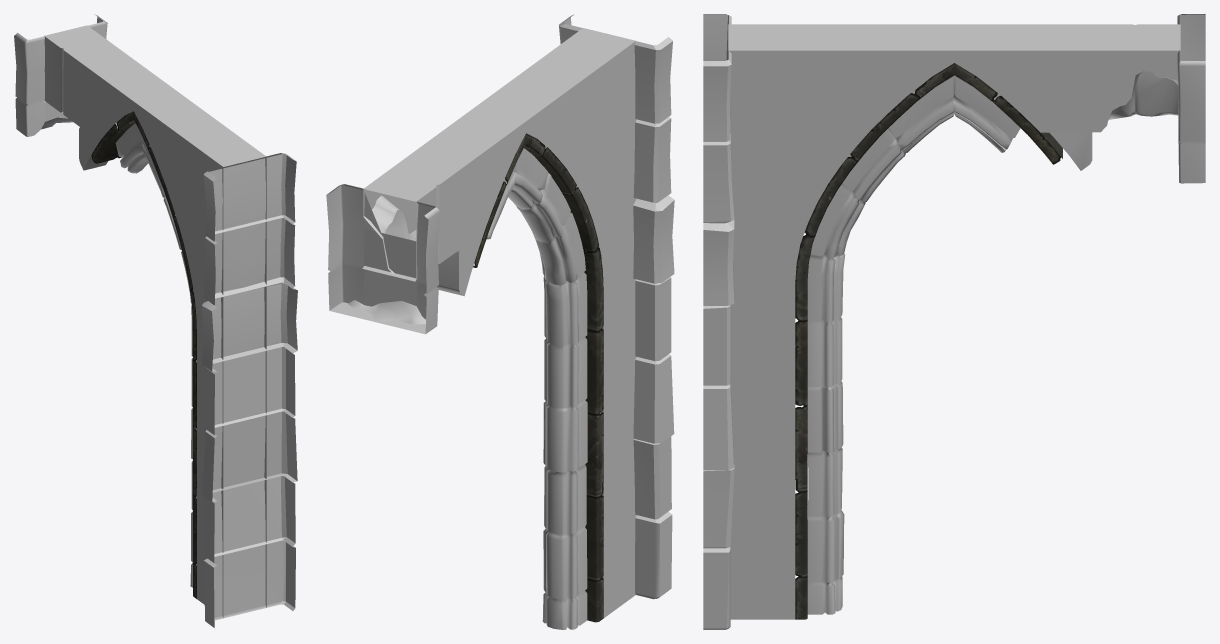
The picture shows the model from 3 angles, left to right: view 1: azimuth 30°, elevation 25°; view 2: azimuth 150°, elevation 25°; view 3: azimuth 270°, elevation 25°; orthographic projection. The views are drawn at different scales.
Parts seen in each view (by area): view 1: SM_Greathall_Lower_Arch_8x10_Broken_01_LOD0; view 2: SM_Greathall_Lower_Arch_8x10_Broken_01_LOD0; view 3: SM_Greathall_Lower_Arch_8x10_Broken_01_LOD0.
Part boxes in pixels (x1=…): SM_Greathall_Lower_Arch_8x10_Broken_01_LOD0: x1=14, y1=14, x2=297, y2=627; SM_Greathall_Lower_Arch_8x10_Broken_01_LOD0: x1=326, y1=14, x2=674, y2=629; SM_Greathall_Lower_Arch_8x10_Broken_01_LOD0: x1=703, y1=14, x2=1205, y2=629.
Bounding box in the file's own units: 2 × 10 × 8.
